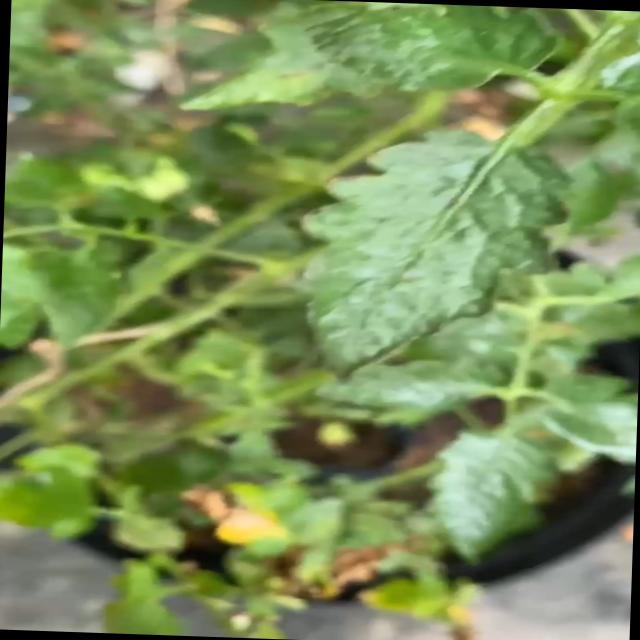Tomato_Healthy: (298, 112, 597, 392)
